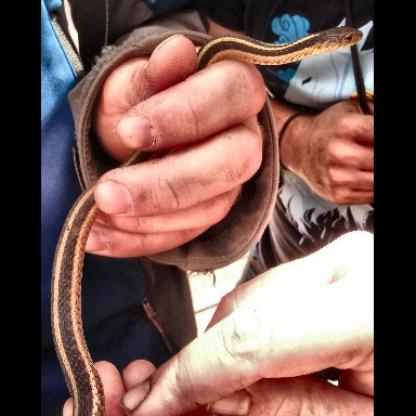Snake: (53, 5, 368, 416), (220, 20, 364, 71)
